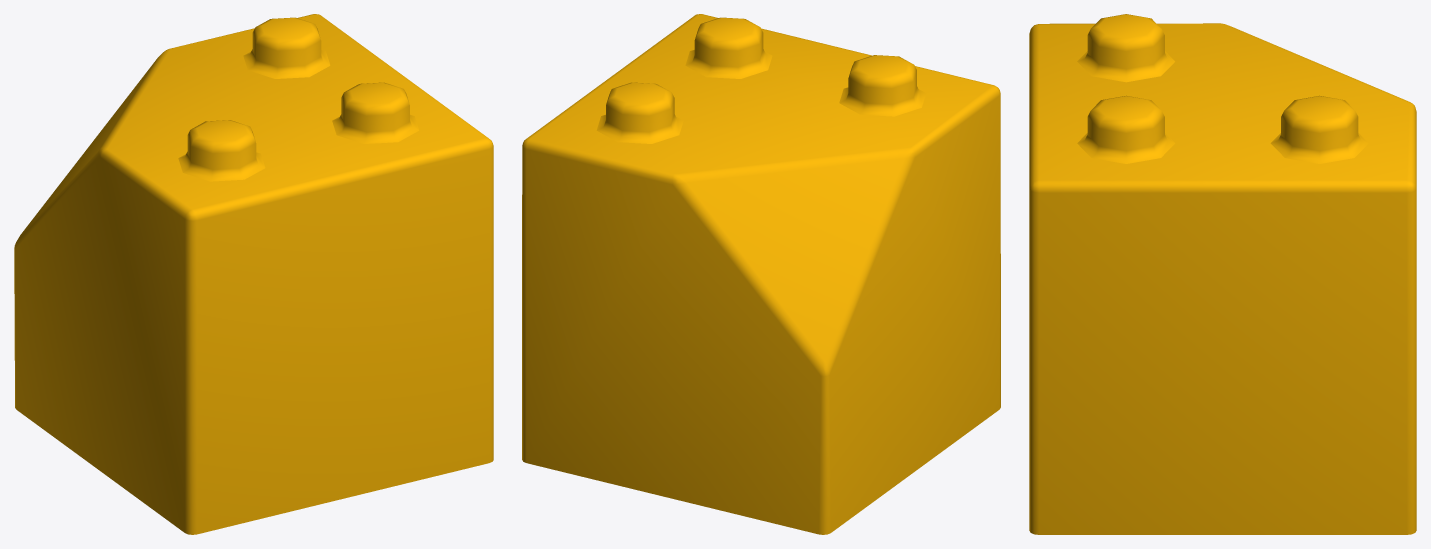
The model's file is Bevel_One_Vertex.fbx.
3 renders of one model, left to right at view 1: azimuth 30°, elevation 25°; view 2: azimuth 150°, elevation 25°; view 3: azimuth 270°, elevation 25°, orthographic. The views are drawn at different scales.
Visible parts, largest first — view 1: Bevel_One_Vertex, Knobs.009; view 2: Bevel_One_Vertex, Knobs.009; view 3: Bevel_One_Vertex, Knobs.009.
Part boxes in pixels (<box>): Bevel_One_Vertex: <box>14,14,493,534</box>; Knobs.009: <box>178,17,418,181</box>; Bevel_One_Vertex: <box>522,14,1000,534</box>; Knobs.009: <box>596,17,926,143</box>; Bevel_One_Vertex: <box>1029,23,1416,534</box>; Knobs.009: <box>1077,14,1368,163</box>.
Bounding box in the file's own units: 1 × 1.1 × 1.
